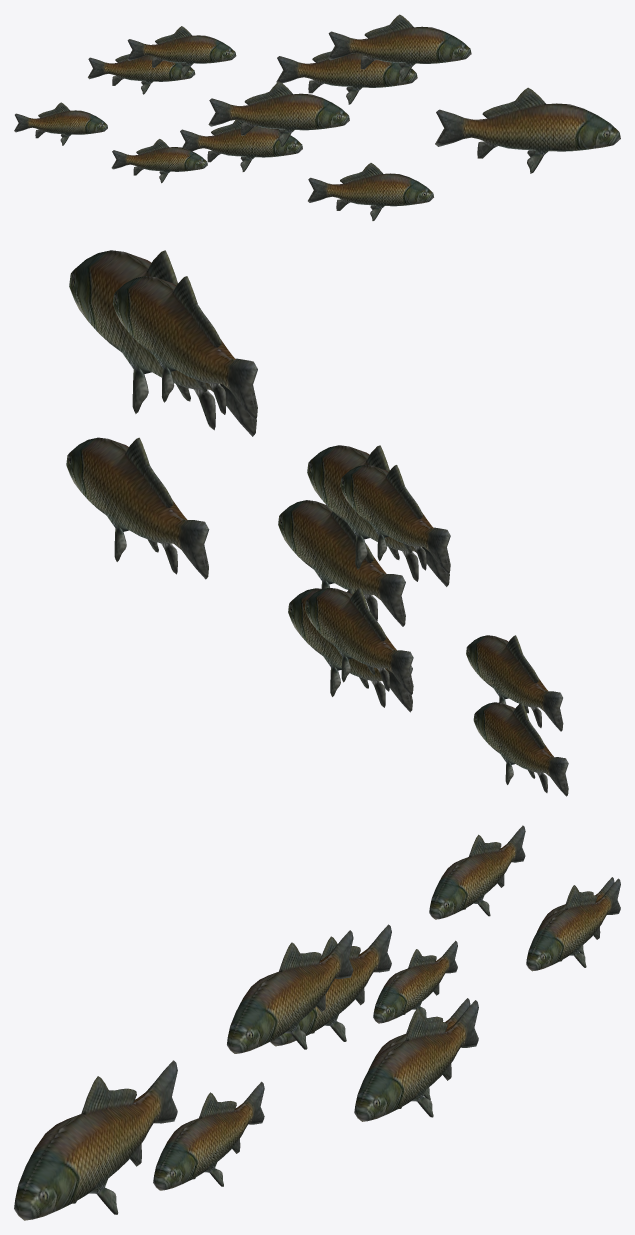
The model's file is school_of_fish.glb.
3 renders of one model, top to bottom at view 1: azimuth 30°, elevation 25°; view 2: azimuth 150°, elevation 25°; view 3: azimuth 270°, elevation 25°, orthographic. The views are drawn at different scales.
Parts seen in each view (by area): view 1: fish_0_1_2; view 2: fish_0_1_2; view 3: fish_0_1_2.
Part boxes in pixels (x1,y1,x2,y2): fish_0_1_2: (14,14,620,220); fish_0_1_2: (66,250,568,796); fish_0_1_2: (14,825,620,1220).
Bounding box in the file's own units: 6.3 × 2.42 × 4.71.
Materials: 1 (1 with a texture image).
